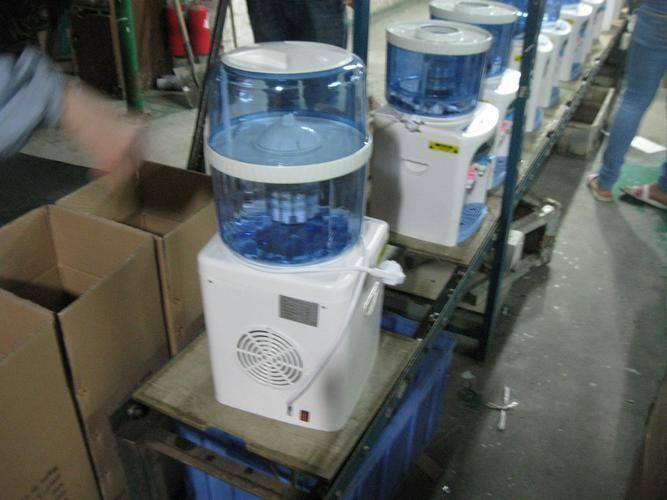Dispenser: (195, 39, 389, 430), (368, 18, 497, 246)
